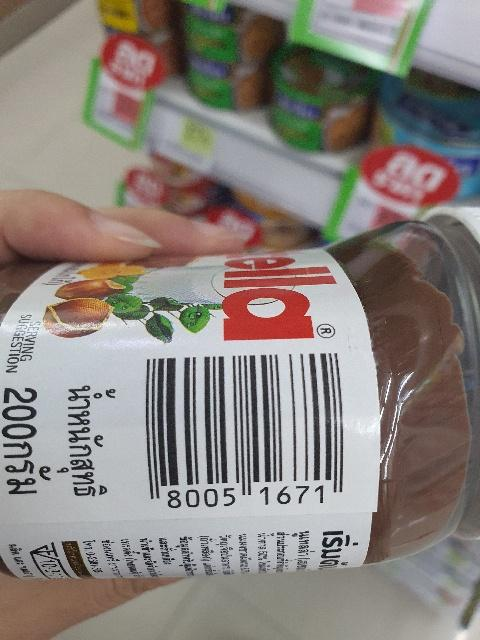Barcode: (133, 344, 356, 513)
